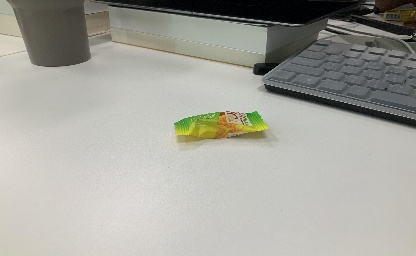jeli: (173, 107, 270, 145)
